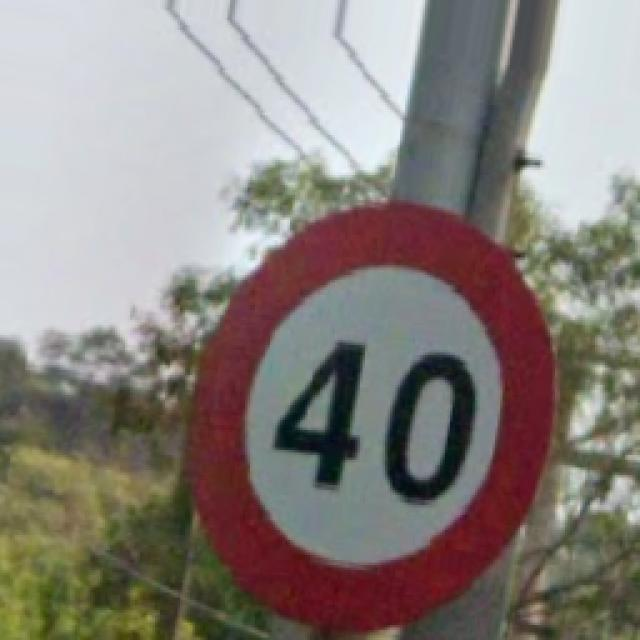Speed Limit -40-: (194, 206, 560, 632)
